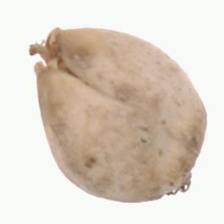L1: (28, 25, 74, 77), (157, 159, 197, 198)
L2: (29, 26, 207, 203)
